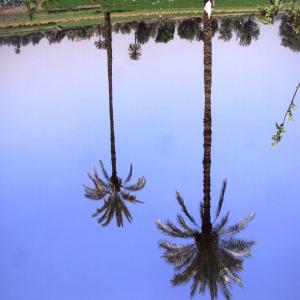palm tree: (82, 4, 146, 228)
